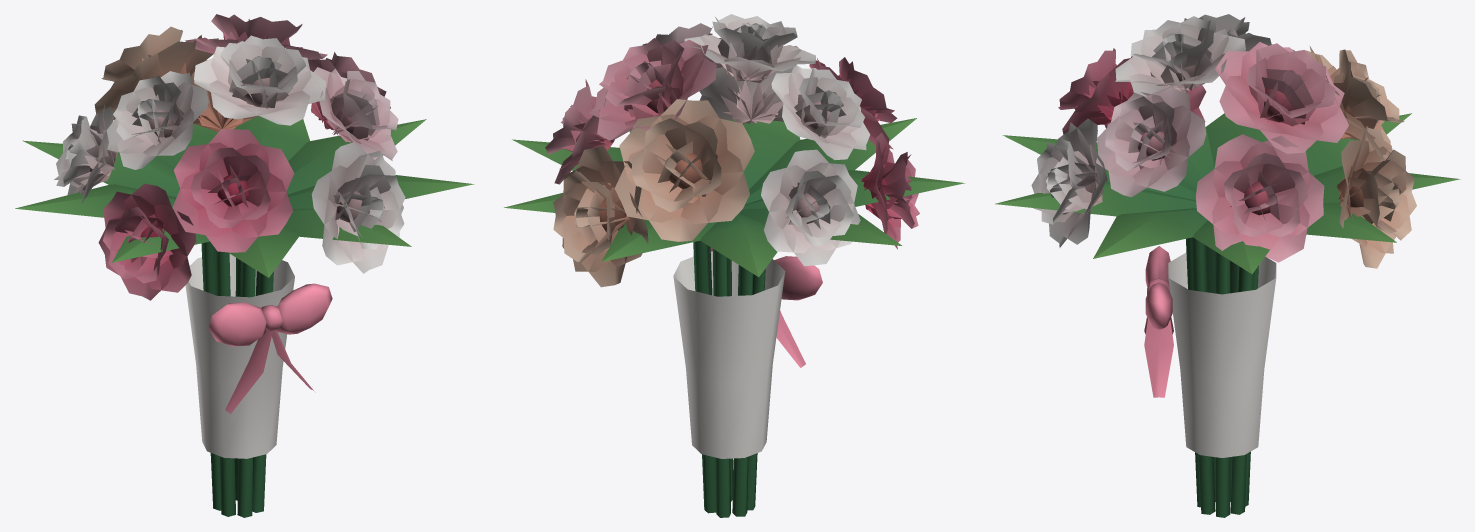
Rendered from bo-hoa.glb.
3 views of the same model, side by side, from view 1: azimuth 30°, elevation 25°; view 2: azimuth 150°, elevation 25°; view 3: azimuth 270°, elevation 25° (orthographic).
Parts seen in each view (by area): view 1: bo-hoa; view 2: bo-hoa; view 3: bo-hoa.
Part boxes in pixels (bbox=[...]): bo-hoa: bbox=[15, 14, 474, 517]; bo-hoa: bbox=[504, 14, 965, 517]; bo-hoa: bbox=[995, 14, 1460, 517].
Size of the model in its own units: 0.2977 by 0.3352 by 0.2957.
